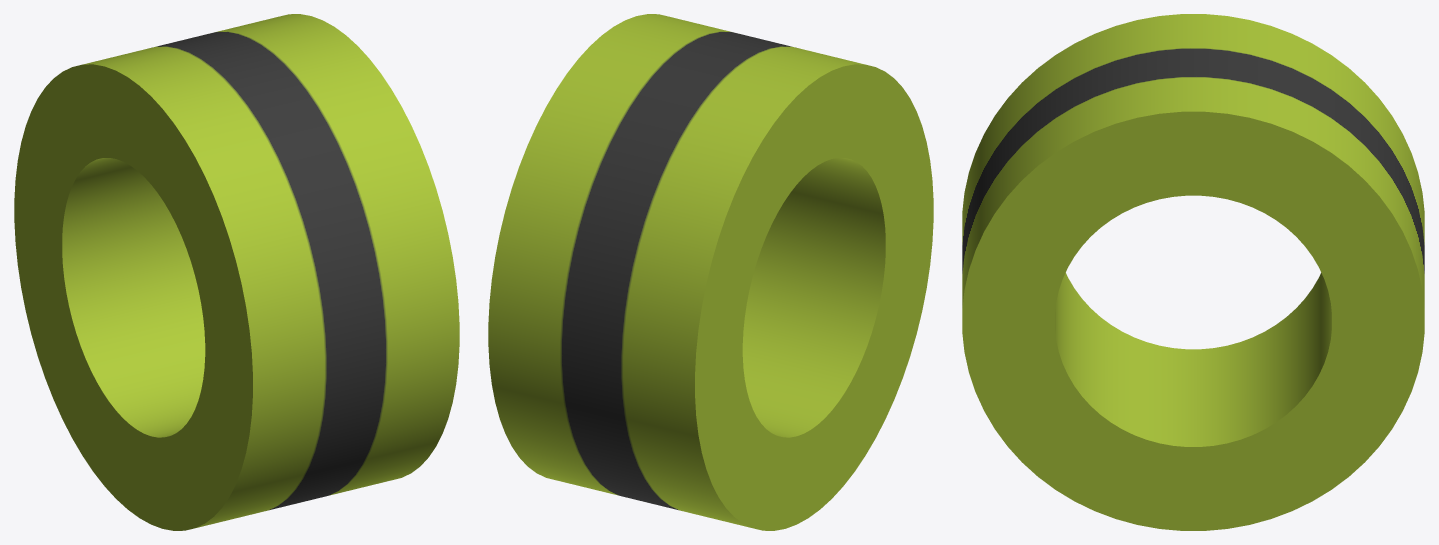
3 views of the same model, side by side, from view 1: azimuth 30°, elevation 25°; view 2: azimuth 150°, elevation 25°; view 3: azimuth 270°, elevation 25° (orthographic). The views are drawn at different scales.
Parts seen in each view (by area): view 1: Cylinder; view 2: Cylinder; view 3: Cylinder.
Part boxes in pixels (left/top/right/bottom): Cylinder: left=14, top=14, right=459, bottom=530; Cylinder: left=488, top=14, right=933, bottom=530; Cylinder: left=962, top=14, right=1424, bottom=530.
Bounding box in the file's own units: 0.5 × 1 × 1.
